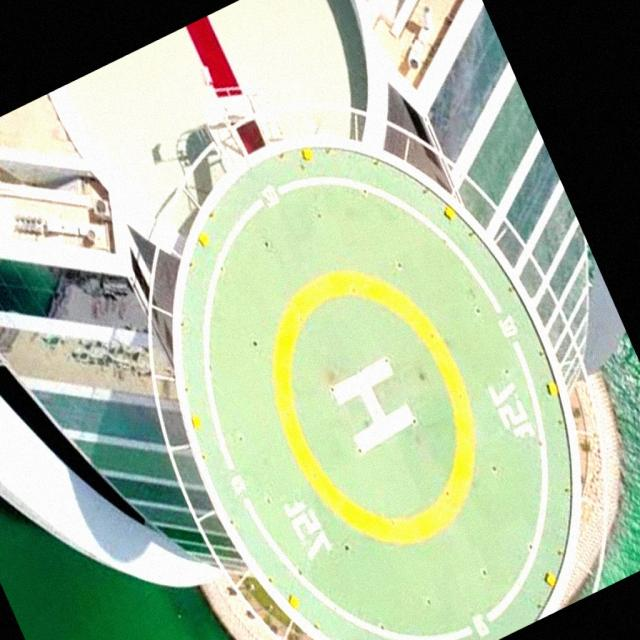helipad: (266, 264, 481, 552)
